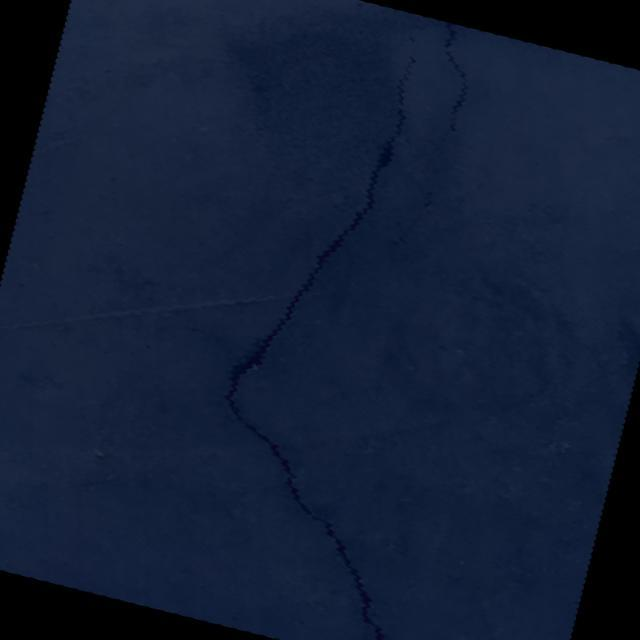crack: (168, 9, 532, 640), (418, 21, 481, 132)
